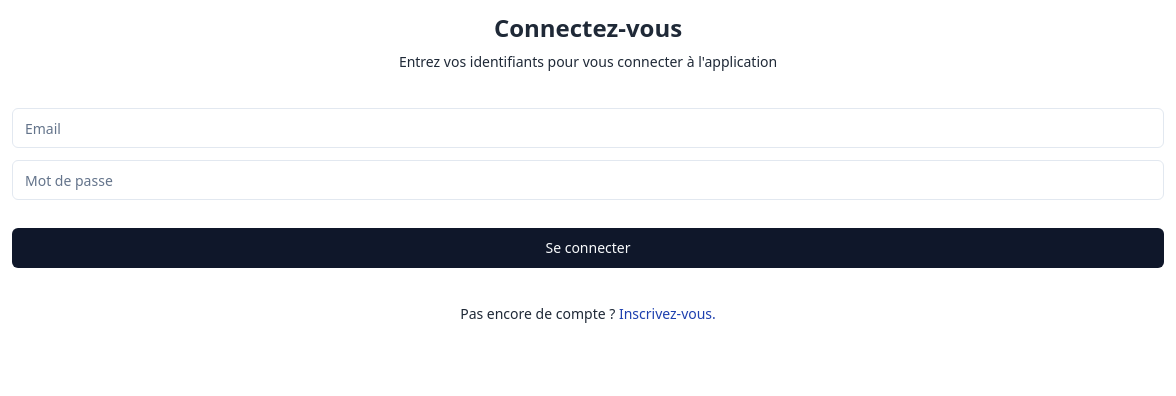
Test case: LoginForm › displays error message on invalid credentials
The width and height of the screenshot is (1176, 396).
Type "invalid-email" into the field with placeholder "Email" at (588, 128), box [12, 108, 1164, 148]
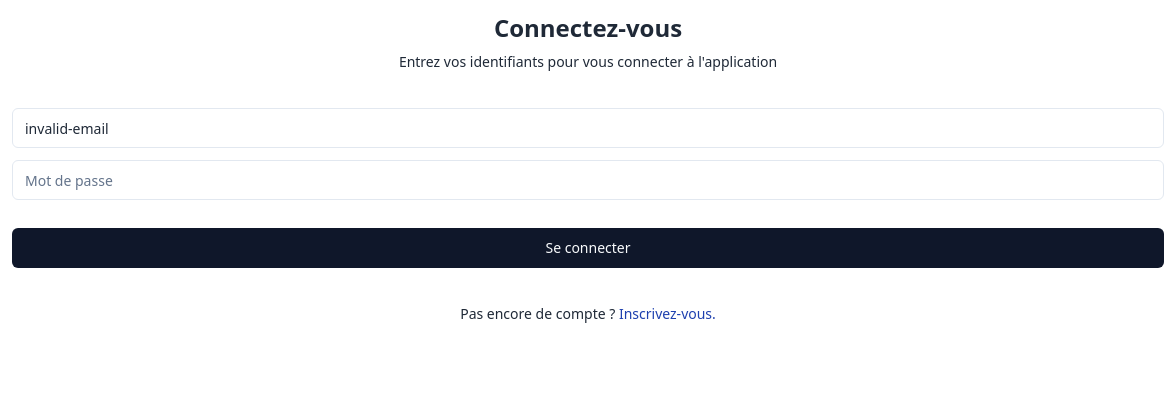
Type "min" into the password field with placeholder "Mot de passe" at (588, 180), box [12, 160, 1164, 200]
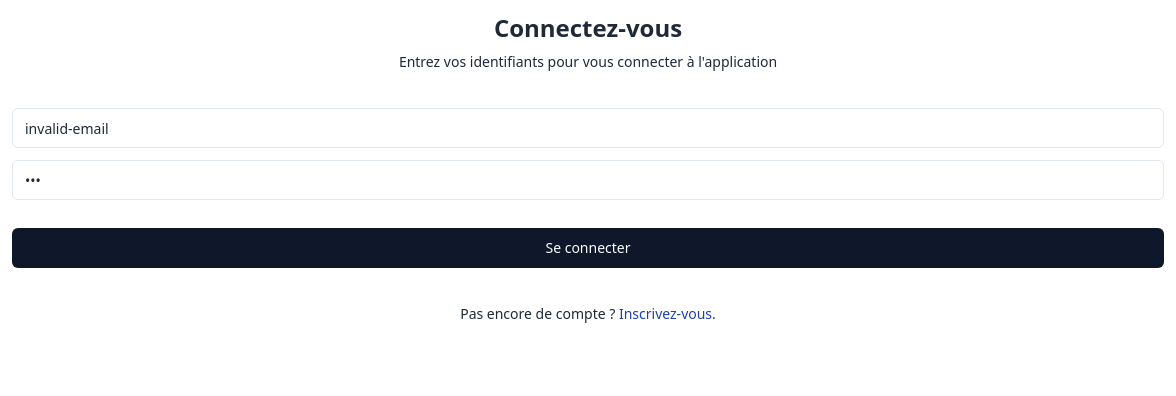
Submit the form from the button "Se connecter", box [12, 228, 1164, 268]
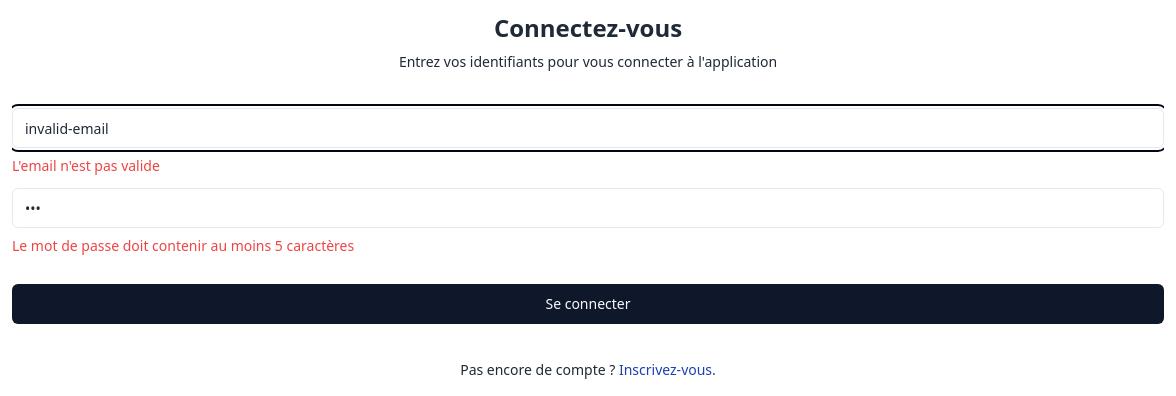
Check: the text "L'email n'est pas valide" is shown, box [12, 156, 160, 175]
Check: the text "Le mot de passe doit contenir au moins 5 caractères" is shown, box [12, 236, 354, 255]
